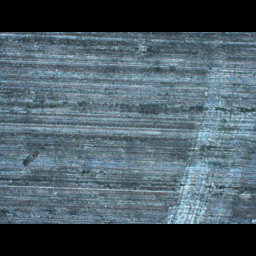d: (164, 53, 255, 222)
